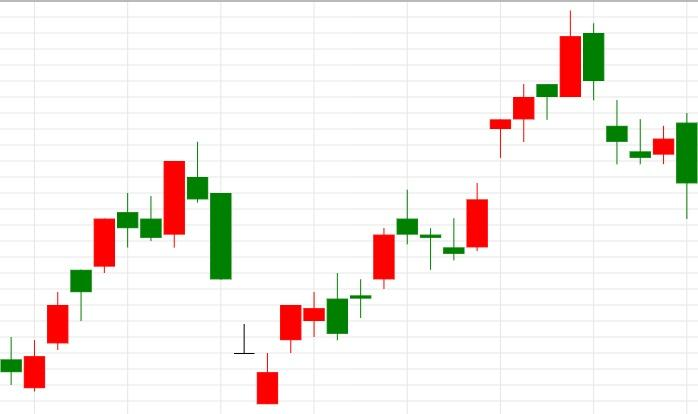bearish_engulfing_fall: (256, 273, 349, 404)
three_black_crows_fall: (442, 11, 652, 261)
